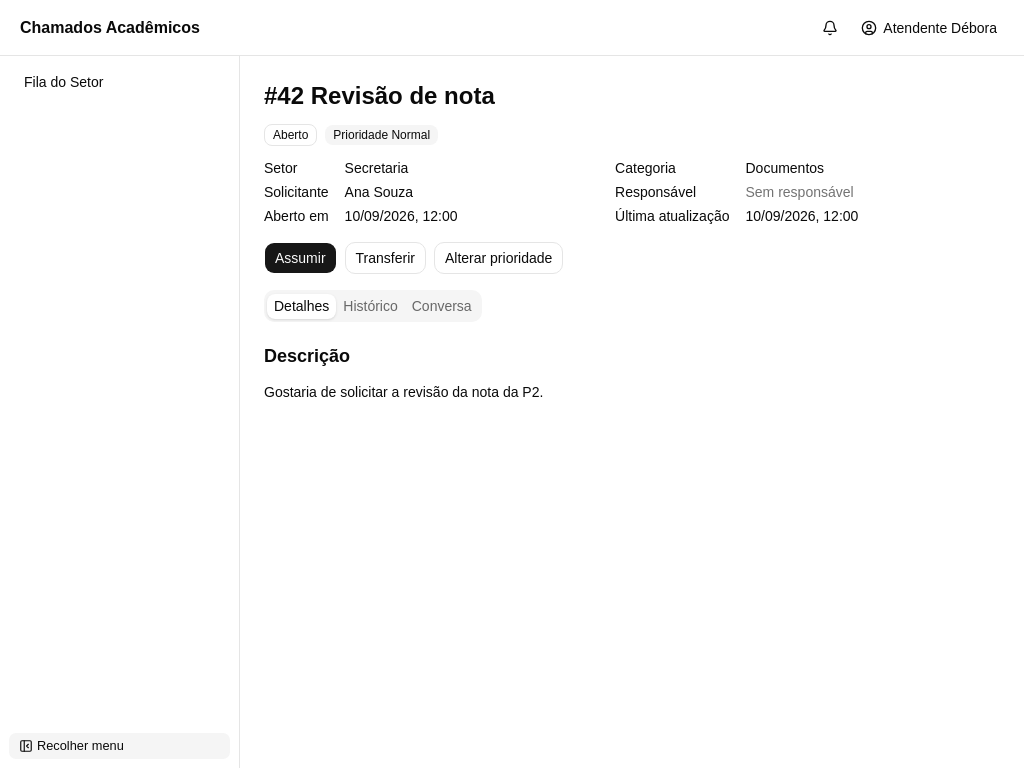
Test: TicketDetailPage (Tela 5, US1.3, BR9.4) › lets the agent of the sector take the ticket, and names the assignee on a conflict
Check: the heading "#42 Revisão de nota" is shown, box [264,82,495,109]
Click the button with test id "ticket-actions-assume-button". click: {"x": 300, "y": 258}
box: [264,242,337,274]
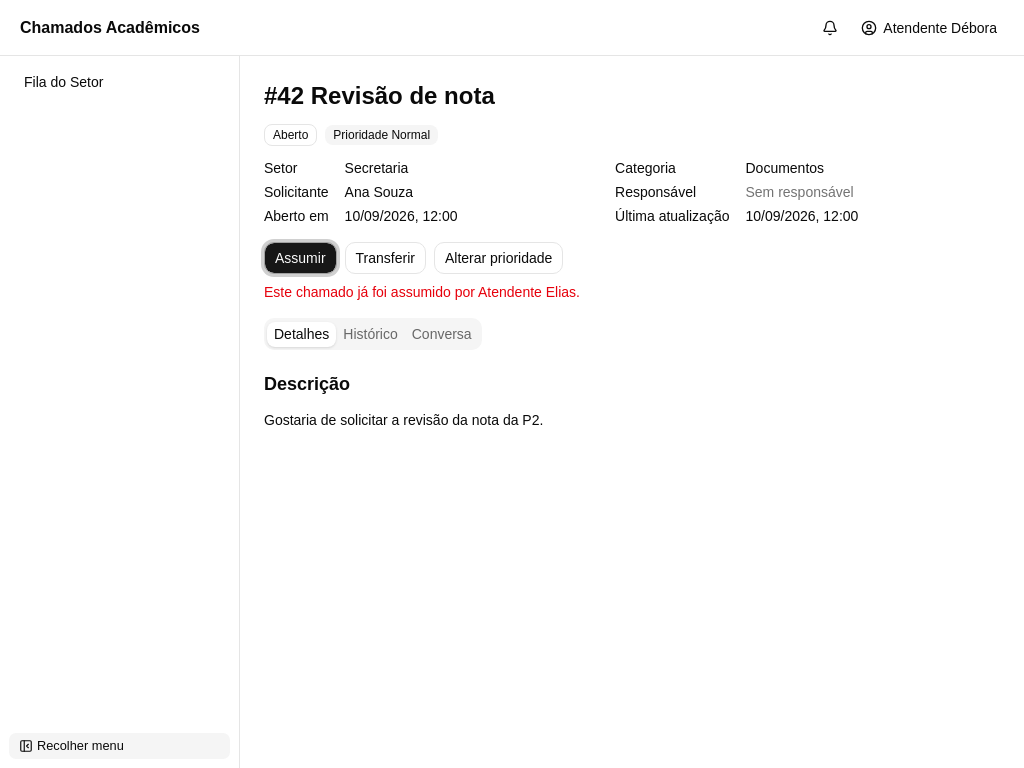
Check: the message with test id "ticket-actions-error" reads "Este chamado já foi assumido por Atendente Elias.", box [264,284,580,300]
